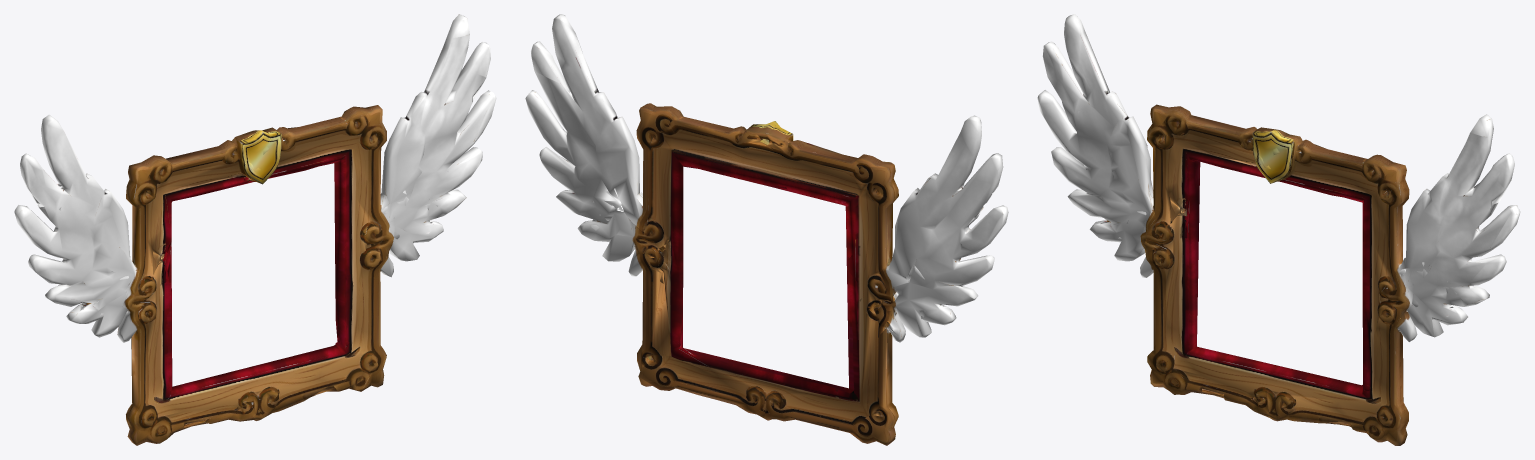
File: Meshy_AI_Winged_Frame_0516180534_texture.fbx
The picture shows the model from 3 angles, left to right: view 1: azimuth 30°, elevation 25°; view 2: azimuth 150°, elevation 25°; view 3: azimuth 330°, elevation 25°; orthographic projection.
Visible parts, largest first — view 1: Mesh1.0; view 2: Mesh1.0; view 3: Mesh1.0.
Part boxes in pixels (x1,y1,x2,y2): Mesh1.0: [14, 14, 496, 445]; Mesh1.0: [525, 14, 1008, 445]; Mesh1.0: [1037, 14, 1520, 445].
Size of the model in its own units: 192 by 135 by 7.75.
Materials: 1 (1 with a texture image).
